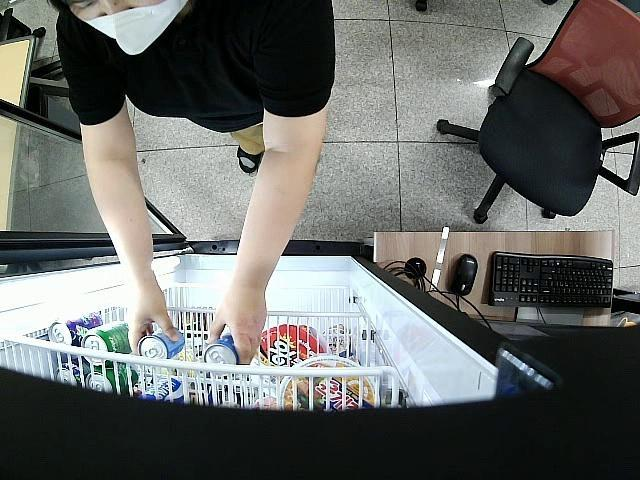15_letsbe: (139, 325, 184, 360), (204, 338, 242, 364)
